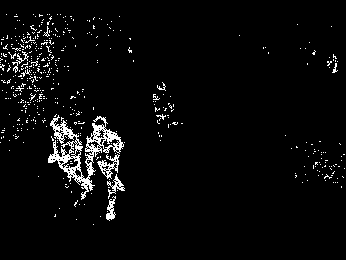person: (46, 113, 90, 220), (91, 113, 127, 229)
